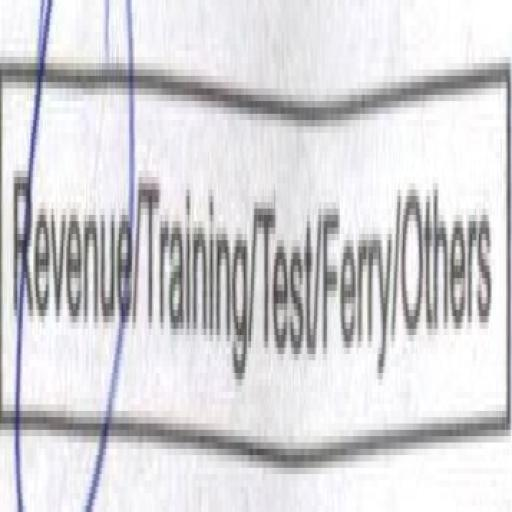check: (2, 0, 136, 512)
